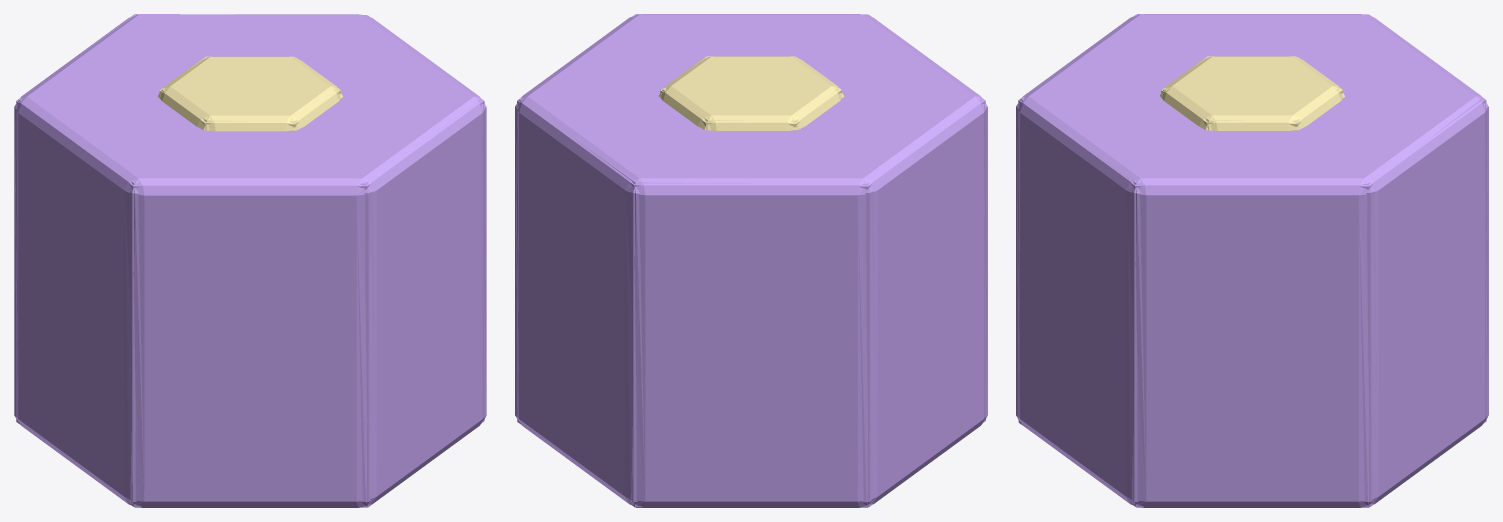
File: SM_Summoner.fbx
3 views of the same model, side by side, from view 1: azimuth 30°, elevation 25°; view 2: azimuth 150°, elevation 25°; view 3: azimuth 270°, elevation 25° (orthographic).
Parts seen in each view (by area): view 1: SM_Summoner, LOD1_SM_Summoner, LOD2_SM_Summoner; view 2: SM_Summoner, LOD1_SM_Summoner, LOD2_SM_Summoner; view 3: SM_Summoner, LOD1_SM_Summoner, LOD2_SM_Summoner.
Part boxes in pixels (bbox=[...]): SM_Summoner: bbox=[15, 14, 484, 507]; LOD1_SM_Summoner: bbox=[15, 14, 485, 507]; LOD2_SM_Summoner: bbox=[14, 14, 486, 507]; SM_Summoner: bbox=[516, 14, 986, 507]; LOD1_SM_Summoner: bbox=[516, 14, 986, 505]; LOD2_SM_Summoner: bbox=[515, 14, 987, 507]; SM_Summoner: bbox=[1017, 14, 1487, 507]; LOD1_SM_Summoner: bbox=[1017, 14, 1487, 507]; LOD2_SM_Summoner: bbox=[1016, 14, 1488, 507].
Bounding box in the file's own units: 0.3118 × 0.2907 × 0.356.
